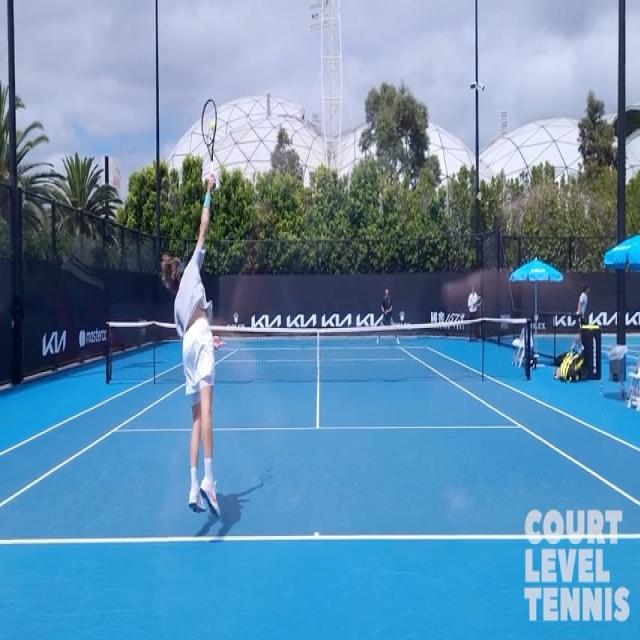serve_hit: (142, 93, 262, 538)
